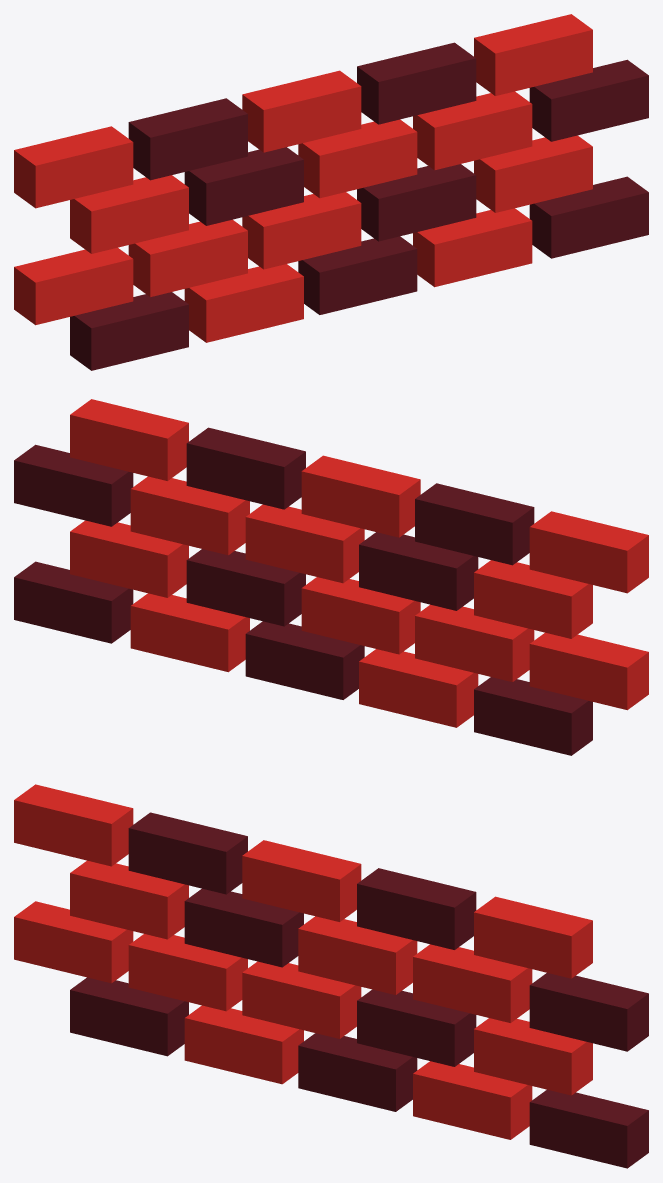
The model's file is tijolos.fbx.
3 renders of one model, top to bottom at view 1: azimuth 30°, elevation 25°; view 2: azimuth 150°, elevation 25°; view 3: azimuth 330°, elevation 25°, orthographic.
Visible parts, largest first — view 1: Tijolos; view 2: Tijolos; view 3: Tijolos.
Boxes of the visible parts, box(x1,y1,x2,y2) form: Tijolos: box(14, 14, 648, 370); Tijolos: box(14, 399, 648, 755); Tijolos: box(14, 784, 648, 1168).
Size of the model in its own units: 1548 by 527 by 94.
